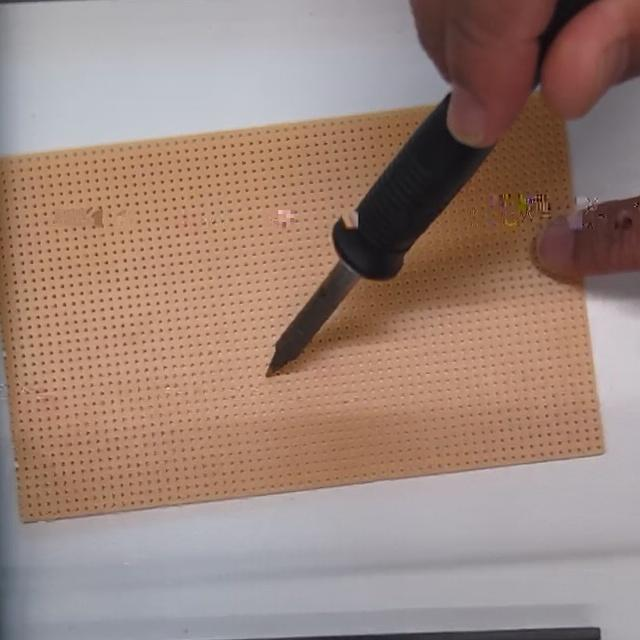soldering_iron: (251, 104, 472, 381)
